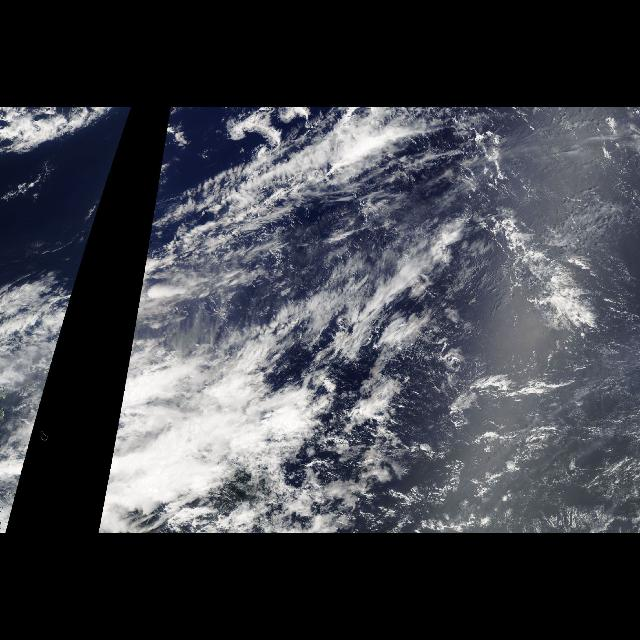Sugar: (468, 135, 640, 533)
